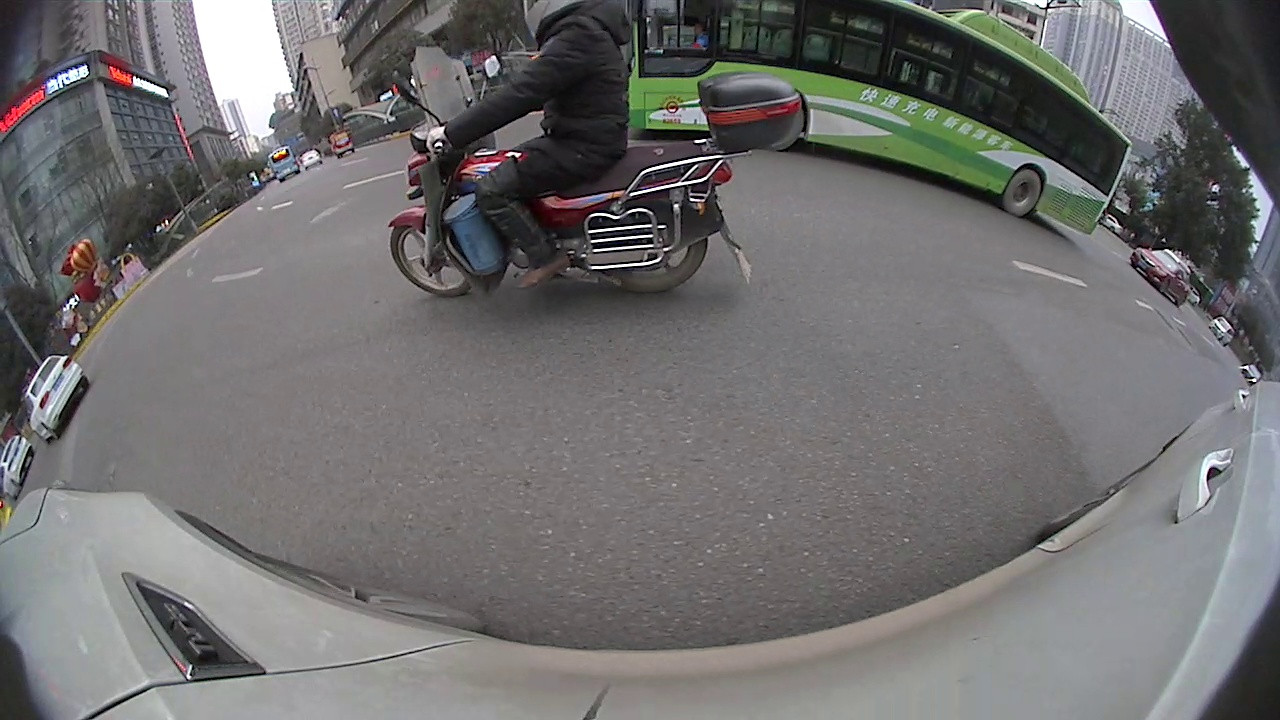bus: (626, 1, 1129, 237)
car: (27, 353, 90, 441), (1133, 249, 1190, 307), (1, 437, 34, 492)
front: (389, 211, 477, 300), (1156, 275, 1175, 295)
rear: (588, 210, 710, 297), (1000, 170, 1041, 217)
rider: (392, 1, 799, 306)
